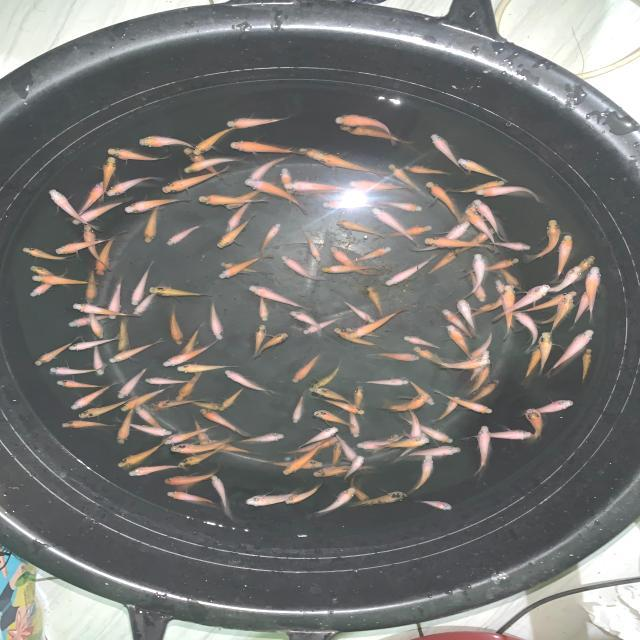nila: (540, 328, 595, 378), (239, 178, 309, 212), (492, 284, 550, 322), (331, 114, 398, 146), (160, 167, 231, 196), (382, 254, 439, 289), (248, 282, 310, 312), (47, 188, 93, 228), (71, 197, 134, 226), (284, 438, 329, 478), (160, 340, 220, 370), (192, 120, 239, 158), (415, 220, 469, 253), (349, 309, 408, 339), (174, 440, 233, 470), (524, 217, 562, 263), (213, 213, 260, 250), (92, 229, 128, 277), (338, 122, 413, 145), (396, 414, 452, 444), (373, 208, 417, 246), (428, 132, 466, 176), (328, 245, 378, 278), (221, 369, 279, 397), (119, 384, 176, 412), (194, 408, 250, 436), (312, 152, 377, 176), (516, 290, 580, 314), (53, 233, 122, 255), (411, 346, 458, 378), (32, 336, 82, 366), (117, 439, 164, 470), (436, 390, 494, 415), (212, 256, 272, 280), (205, 471, 235, 519), (67, 382, 116, 411), (180, 147, 223, 180), (226, 140, 304, 158), (72, 180, 108, 219), (470, 198, 504, 239), (248, 154, 290, 187), (425, 183, 461, 221), (463, 207, 498, 246), (83, 225, 112, 272), (29, 268, 74, 298), (108, 340, 162, 365), (312, 487, 358, 516), (158, 424, 216, 447), (280, 255, 329, 282), (128, 263, 158, 307), (167, 435, 233, 455), (116, 364, 152, 400), (77, 396, 130, 420), (474, 184, 544, 202), (456, 157, 508, 181), (27, 261, 70, 290), (386, 163, 426, 194), (65, 333, 124, 354), (226, 184, 270, 212), (106, 176, 162, 198), (228, 112, 300, 129), (72, 301, 140, 319), (223, 197, 254, 236), (174, 366, 207, 402), (161, 467, 220, 487), (333, 328, 384, 351), (459, 428, 532, 444), (376, 224, 434, 244), (115, 417, 173, 437), (156, 490, 220, 508), (333, 218, 385, 240), (121, 198, 192, 214), (32, 271, 103, 287), (182, 156, 245, 174), (291, 350, 325, 383), (457, 227, 497, 255), (510, 310, 538, 350), (520, 398, 576, 418), (135, 404, 170, 436), (519, 346, 546, 386), (195, 194, 272, 208), (297, 426, 340, 451), (424, 248, 462, 276), (244, 488, 300, 507), (380, 391, 426, 414), (550, 234, 574, 278), (441, 307, 474, 339), (137, 135, 199, 152), (18, 245, 80, 262), (110, 315, 134, 358), (180, 321, 204, 364), (308, 363, 342, 393), (66, 310, 117, 330), (567, 296, 596, 331), (586, 266, 604, 322), (164, 222, 206, 246), (550, 294, 576, 332), (466, 253, 487, 300), (287, 310, 323, 337), (130, 288, 162, 318), (256, 222, 284, 256), (316, 397, 366, 416), (444, 325, 471, 360), (56, 416, 115, 432), (282, 180, 354, 193), (358, 490, 410, 508), (254, 332, 290, 358), (82, 303, 106, 342), (262, 457, 324, 472), (282, 438, 340, 454), (149, 284, 207, 300), (312, 410, 358, 430), (500, 284, 517, 338), (142, 202, 164, 243), (286, 482, 322, 507), (468, 378, 502, 404), (474, 424, 491, 476), (394, 436, 428, 462), (98, 156, 119, 198), (175, 360, 238, 374), (538, 303, 578, 325), (412, 454, 434, 494), (107, 278, 126, 324), (106, 148, 168, 162), (126, 462, 180, 478), (342, 298, 375, 324), (403, 446, 464, 460), (423, 238, 494, 250), (320, 198, 380, 212), (280, 166, 301, 206), (334, 433, 362, 463), (79, 268, 101, 306), (191, 416, 213, 454), (296, 146, 342, 164), (454, 298, 479, 331), (47, 363, 105, 377), (466, 331, 493, 361), (300, 317, 342, 336), (113, 408, 134, 446), (313, 466, 379, 478), (373, 437, 425, 452), (206, 443, 258, 458), (523, 407, 546, 440), (348, 179, 411, 191), (452, 179, 506, 193), (433, 396, 460, 424), (352, 246, 394, 264), (230, 432, 288, 445), (209, 299, 226, 342), (553, 266, 581, 292), (366, 351, 422, 364), (377, 198, 422, 214), (348, 474, 372, 504), (218, 387, 248, 411), (148, 398, 203, 411), (312, 388, 354, 405), (467, 350, 490, 381), (580, 348, 597, 388), (249, 324, 269, 358), (354, 436, 406, 449), (539, 331, 554, 376), (412, 380, 436, 408), (365, 284, 386, 316), (468, 268, 487, 303), (91, 342, 110, 377), (488, 237, 532, 252), (438, 359, 493, 371), (321, 264, 384, 274), (496, 266, 522, 290), (169, 309, 185, 348), (52, 378, 108, 389), (285, 187, 353, 196), (343, 455, 366, 481), (184, 399, 230, 412), (457, 199, 478, 227), (402, 335, 444, 349), (218, 260, 260, 274), (470, 364, 488, 396), (372, 434, 400, 454), (141, 376, 197, 386), (304, 231, 322, 262), (466, 302, 496, 320), (346, 326, 384, 340), (330, 442, 347, 473), (350, 384, 366, 416), (290, 396, 308, 424), (404, 164, 454, 174), (418, 498, 453, 512), (574, 254, 598, 274), (346, 402, 359, 438), (494, 280, 510, 308), (486, 258, 520, 271), (407, 408, 420, 441), (360, 378, 410, 386), (356, 182, 394, 192), (257, 296, 270, 322)
